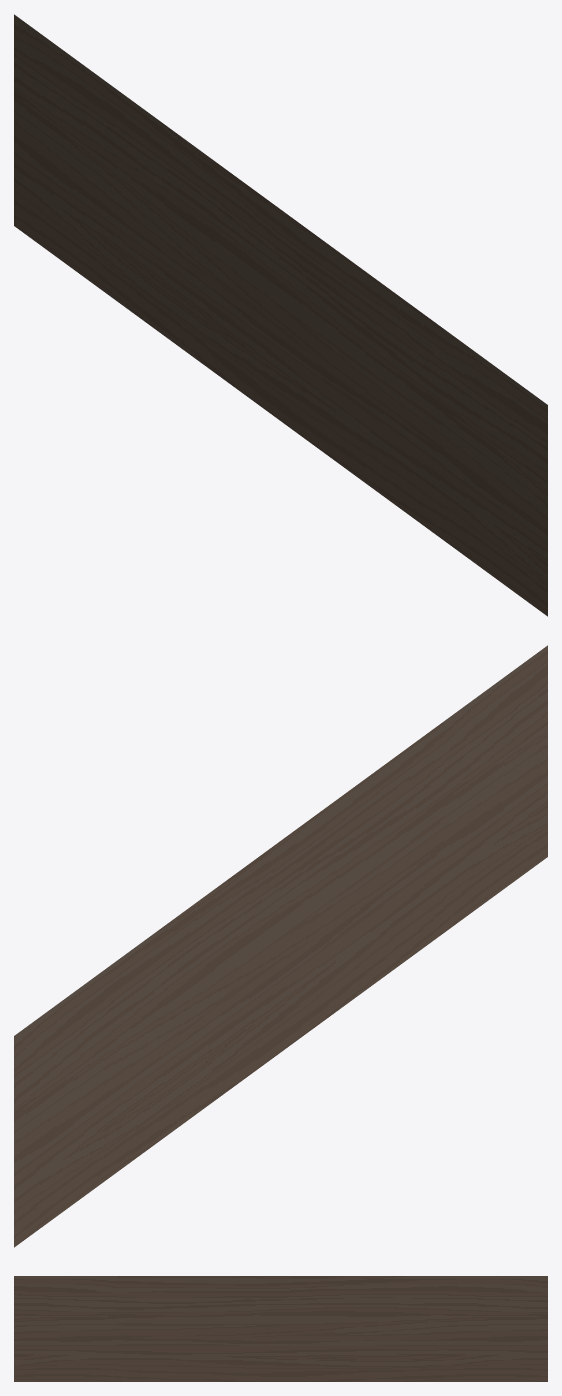
The model's file is kd_stage_135ded_4_141_exterior_piece_5.glb.
The picture shows the model from 3 angles, top to bottom: view 1: azimuth 30°, elevation 25°; view 2: azimuth 150°, elevation 25°; view 3: azimuth 270°, elevation 25°; orthographic projection. The views are drawn at different scales.
Parts seen in each view (by area): view 1: kd_stage_135ded_4_141_exterior_piece_5; view 2: kd_stage_135ded_4_141_exterior_piece_5; view 3: kd_stage_135ded_4_141_exterior_piece_5.
Boxes of the visible parts, x1=… form: kd_stage_135ded_4_141_exterior_piece_5: x1=14, y1=14, x2=547, y2=616; kd_stage_135ded_4_141_exterior_piece_5: x1=14, y1=645, x2=547, y2=1247; kd_stage_135ded_4_141_exterior_piece_5: x1=14, y1=1276, x2=547, y2=1381.
Size of the model in its own units: 0 by 0.1983 by 0.9067.
1 material, 1 textured.
